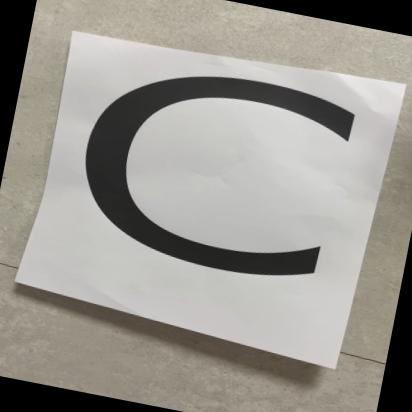seat: (25, 32, 380, 356)
